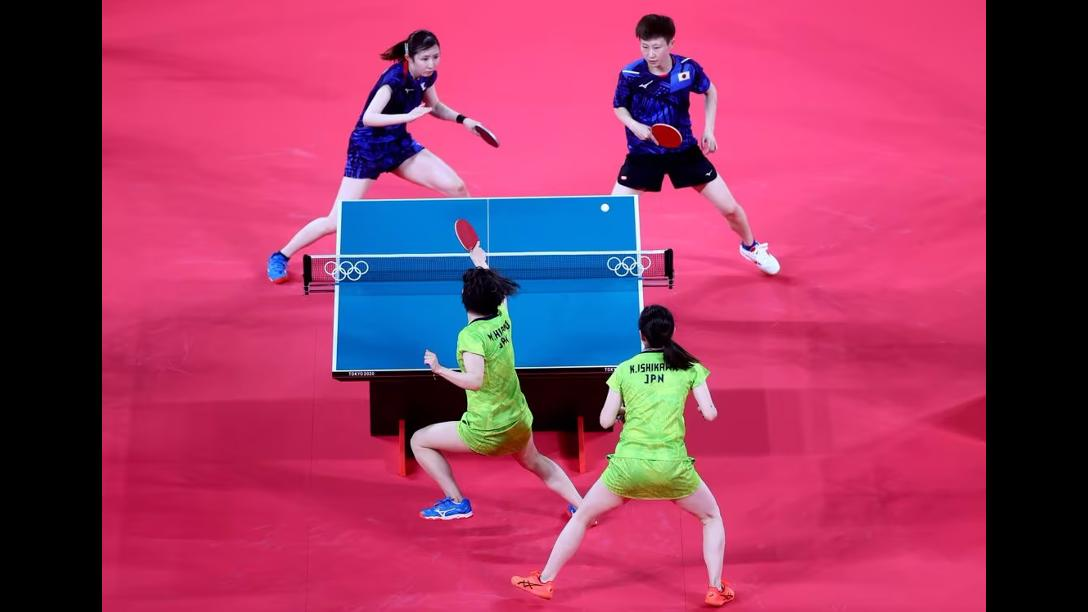Table-Tennis-Ball: (602, 204, 608, 212)
